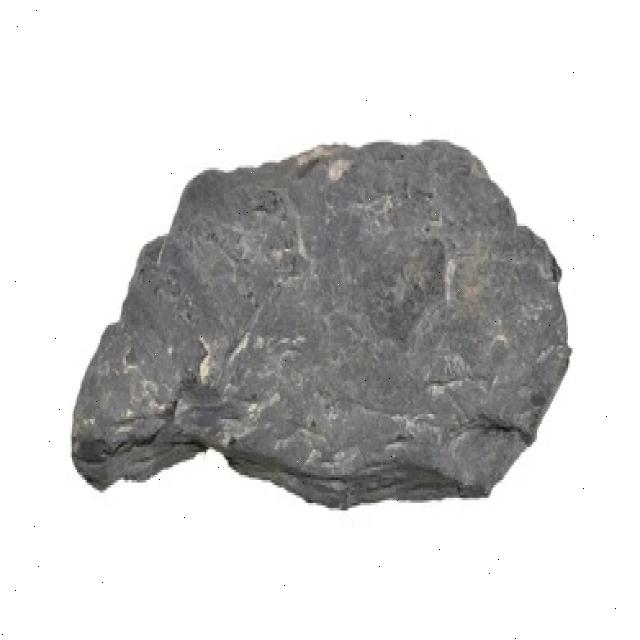Sedimentary: (76, 130, 574, 510)
